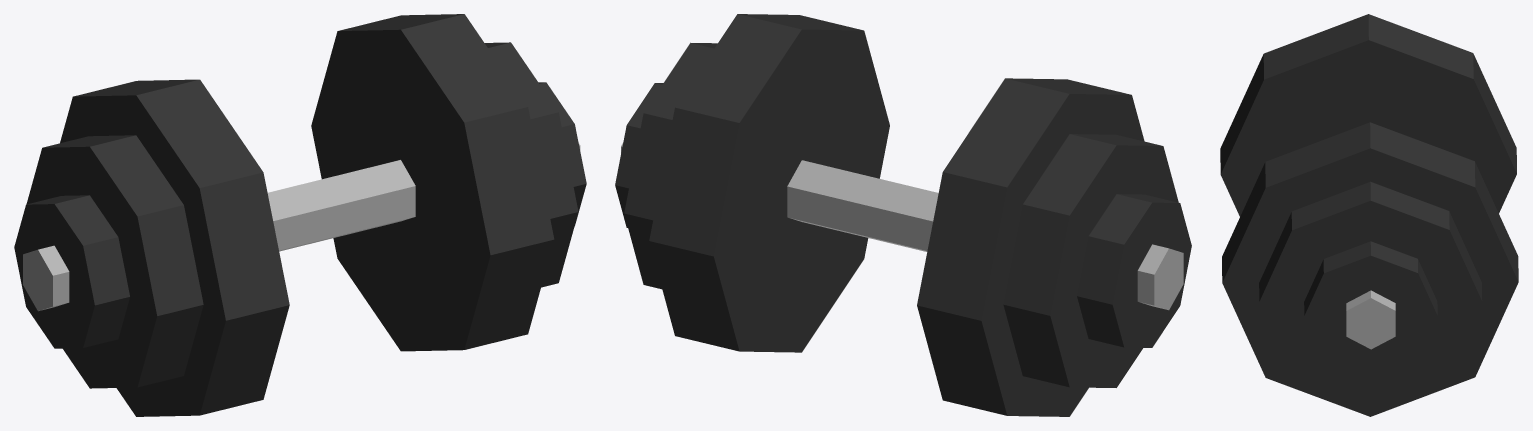
The model's file is Pesas02.fbx.
3 views of the same model, side by side, from view 1: azimuth 30°, elevation 25°; view 2: azimuth 150°, elevation 25°; view 3: azimuth 270°, elevation 25° (orthographic). The views are drawn at different scales.
Visible parts, largest first — view 1: Pesas02; view 2: Pesas02; view 3: Pesas02.
Boxes of the visible parts, x1,y1,x2,y2 form: Pesas02: [14, 14, 586, 416]; Pesas02: [615, 14, 1191, 416]; Pesas02: [1220, 14, 1518, 416].
Bounding box in the file's own units: 27.95 × 16.22 × 16.33.
